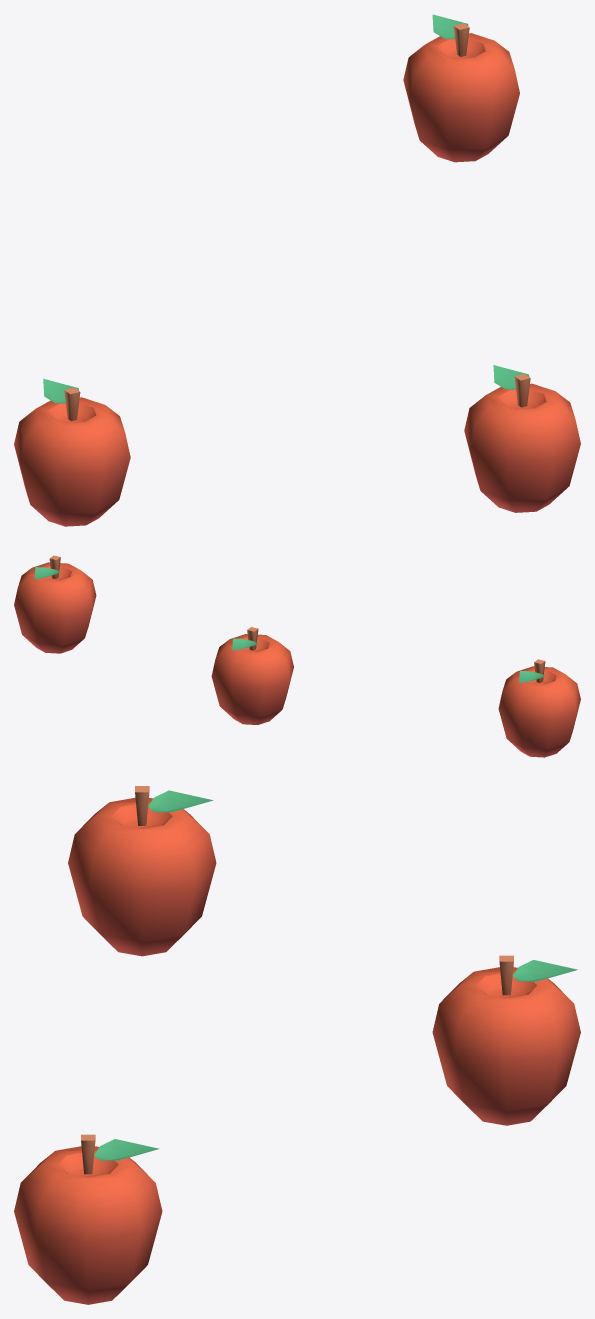
File: crafted-apple-fruits-ready.glb
3 renders of one model, top to bottom at view 1: azimuth 30°, elevation 25°; view 2: azimuth 150°, elevation 25°; view 3: azimuth 270°, elevation 25°, orthographic. The views are drawn at different scales.
Parts seen in each view (by area): view 1: fruit-2, fruit-0, fruit-1; view 2: fruit-2, fruit-0, fruit-1; view 3: fruit-1, fruit-2, fruit-0.
Part boxes in pixels (x1,y1,x2,y2): fruit-2: (403, 14, 519, 162); fruit-0: (14, 378, 130, 526); fruit-1: (464, 365, 580, 512); fruit-2: (14, 555, 96, 653); fruit-0: (498, 659, 580, 757); fruit-1: (211, 627, 293, 724); fruit-1: (14, 1134, 162, 1304); fruit-2: (432, 955, 580, 1125); fruit-0: (68, 786, 216, 956).
Bounding box in the file's own units: 1.35 × 0.65 × 0.84.
Materials: 3 (3 with a texture image).
